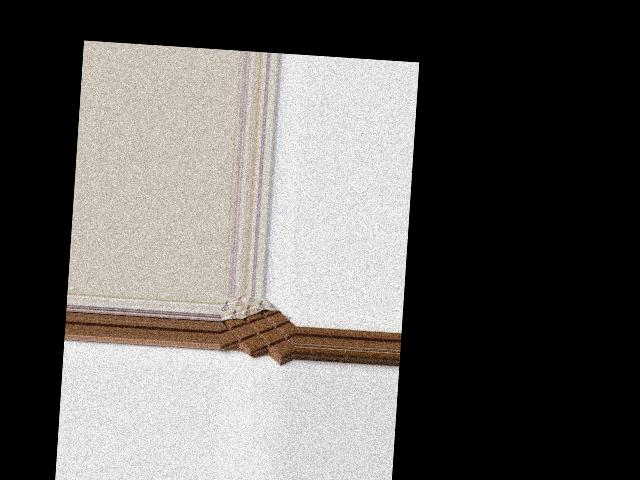chocolate: (217, 296, 296, 360)
